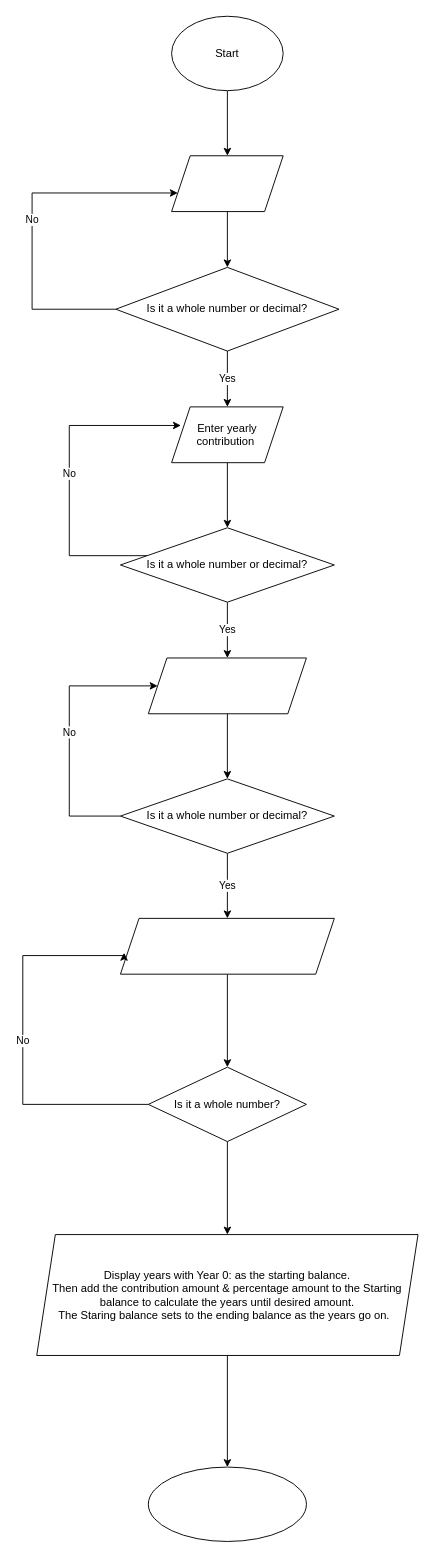
Image size: 434x1558. Some labels were removed from this diagram. The box of each missing label's shape, as (x1, y1, x2, y2) in pixels:
End program after the max amount of years inputted is met.: (147, 1466, 306, 1541)
Enter a number of years for the report.: (120, 917, 334, 974)
Enter average return on Investment: (147, 657, 306, 714)
Enter Starting balance: (171, 155, 283, 212)
